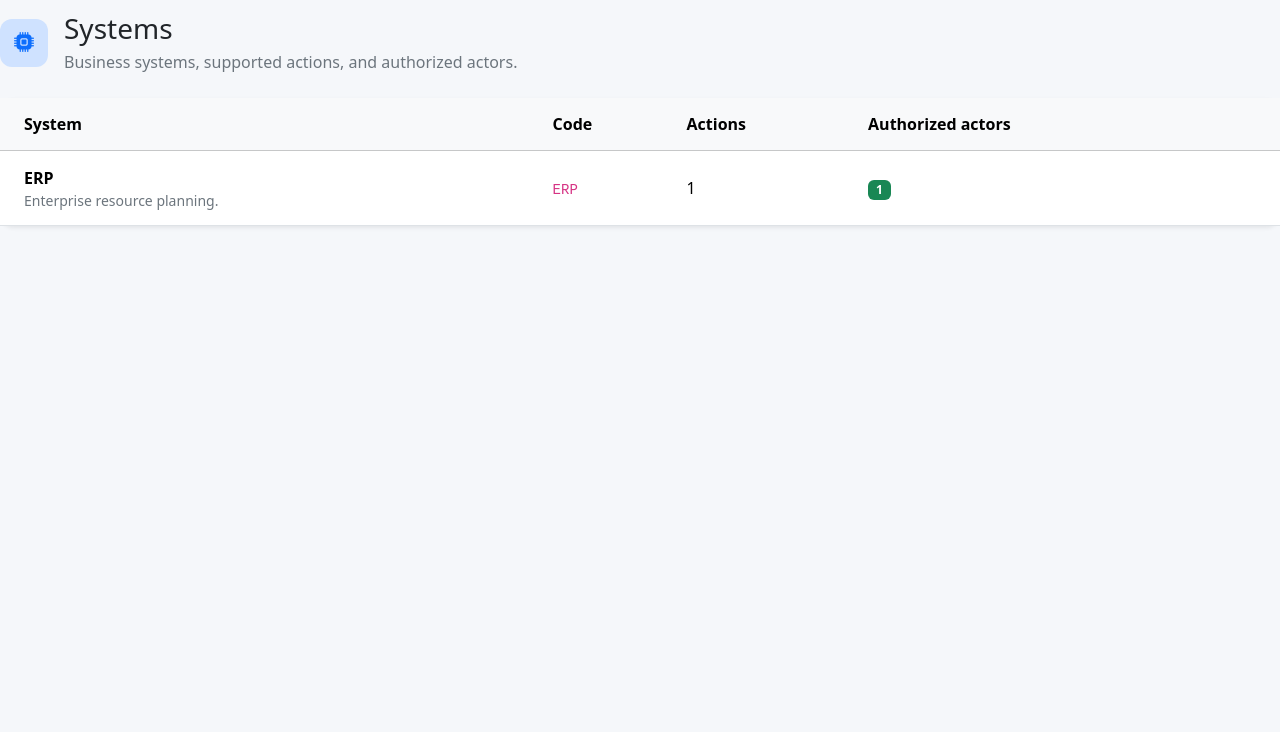
Test case: opens a system profile by clicking its row
This screenshot has width=1280, height=732.
Click the link with aria-label "View ERP's profile" at {"x": 640, "y": 188}, box [0,151,1279,226]
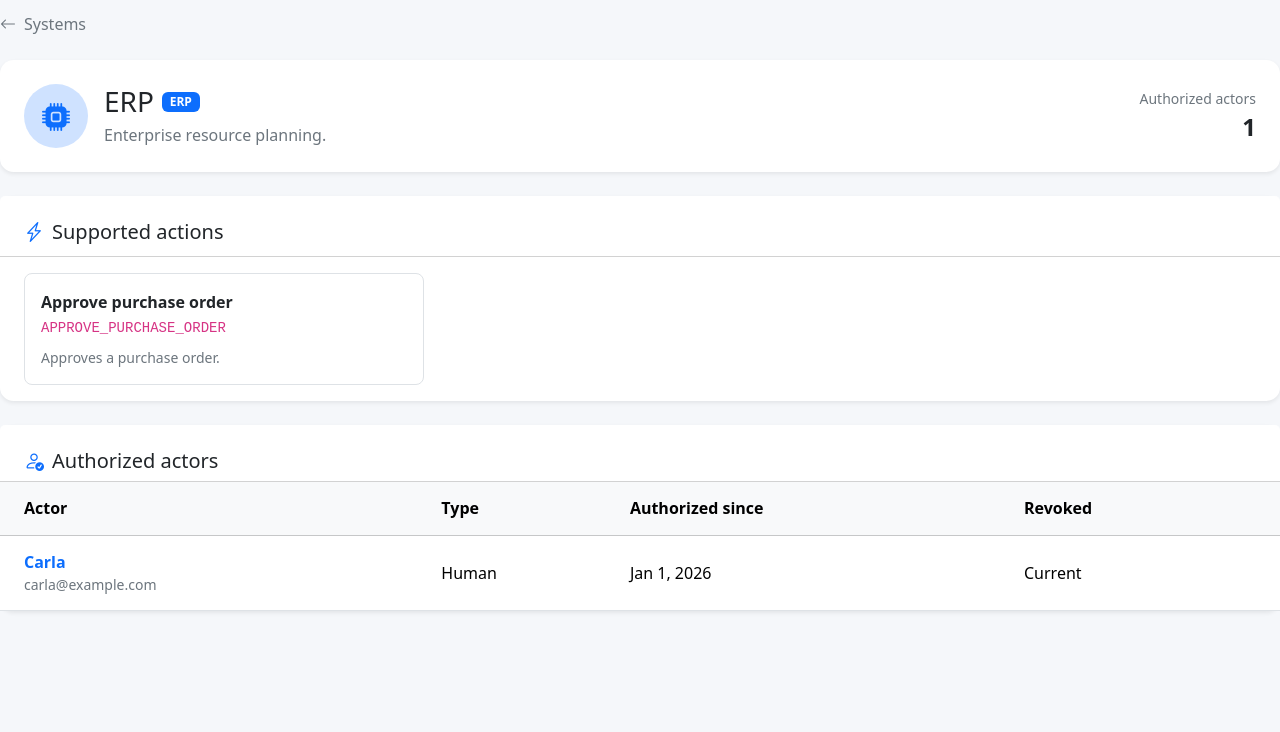
Expected: the heading "ERP" is shown, [104,85,154,119]
Expected: the link "Carla" is shown, [24,551,66,573]
